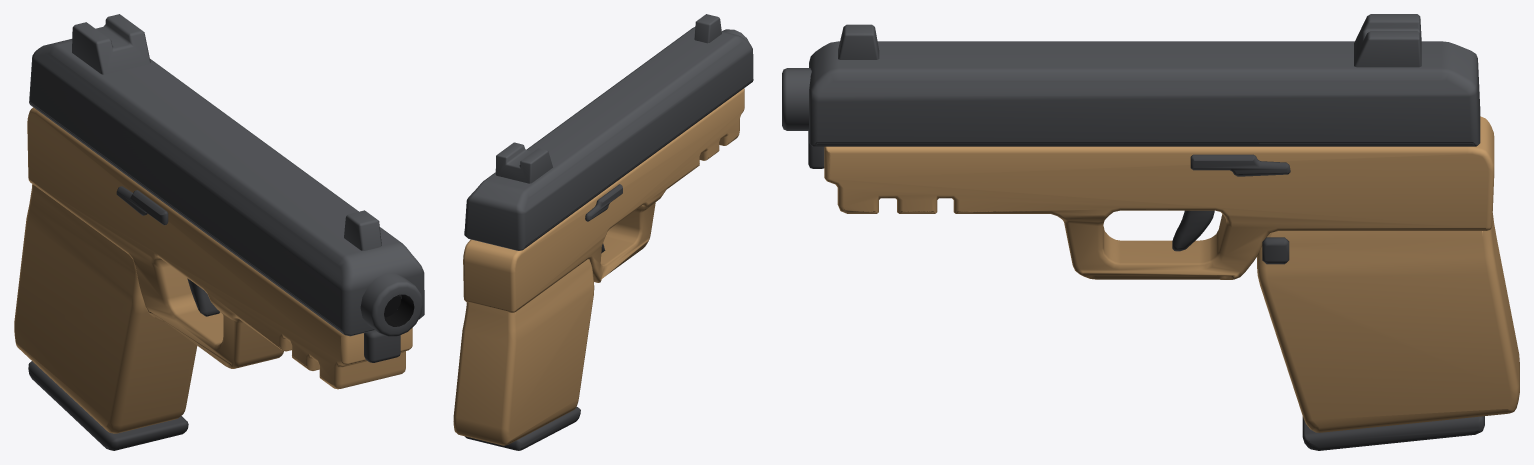
Rendered from pistol.glb.
3 renders of one model, left to right at view 1: azimuth 30°, elevation 25°; view 2: azimuth 150°, elevation 25°; view 3: azimuth 270°, elevation 25°, orthographic. The views are drawn at different scales.
Parts seen in each view (by area): view 1: pistol_slide, pistol_frame, pistol_grip, pistol_magazine_base, pistol_trigger; view 2: pistol_slide, pistol_grip, pistol_frame, pistol_magazine_base; view 3: pistol_slide, pistol_frame, pistol_grip, pistol_magazine_base, pistol_trigger.
Boxes of the visible parts, x1,y1,x2,y2 form: pistol_slide: [29, 14, 424, 336]; pistol_frame: [27, 107, 412, 389]; pistol_grip: [14, 184, 197, 433]; pistol_magazine_base: [28, 361, 188, 450]; pistol_trigger: [187, 278, 219, 316]; pistol_slide: [464, 14, 753, 250]; pistol_grip: [453, 259, 594, 445]; pistol_frame: [463, 88, 744, 312]; pistol_magazine_base: [465, 407, 580, 450]; pistol_slide: [782, 14, 1480, 146]; pistol_frame: [808, 116, 1494, 279]; pistol_grip: [1257, 213, 1519, 432]; pistol_magazine_base: [1302, 416, 1484, 450]; pistol_trigger: [1172, 210, 1214, 251].
Size of the model in its own units: 0.0348 by 0.1504 by 0.2466.
